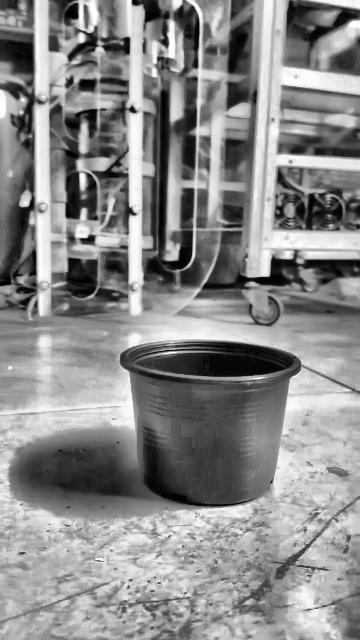pot: (120, 339, 299, 507)
